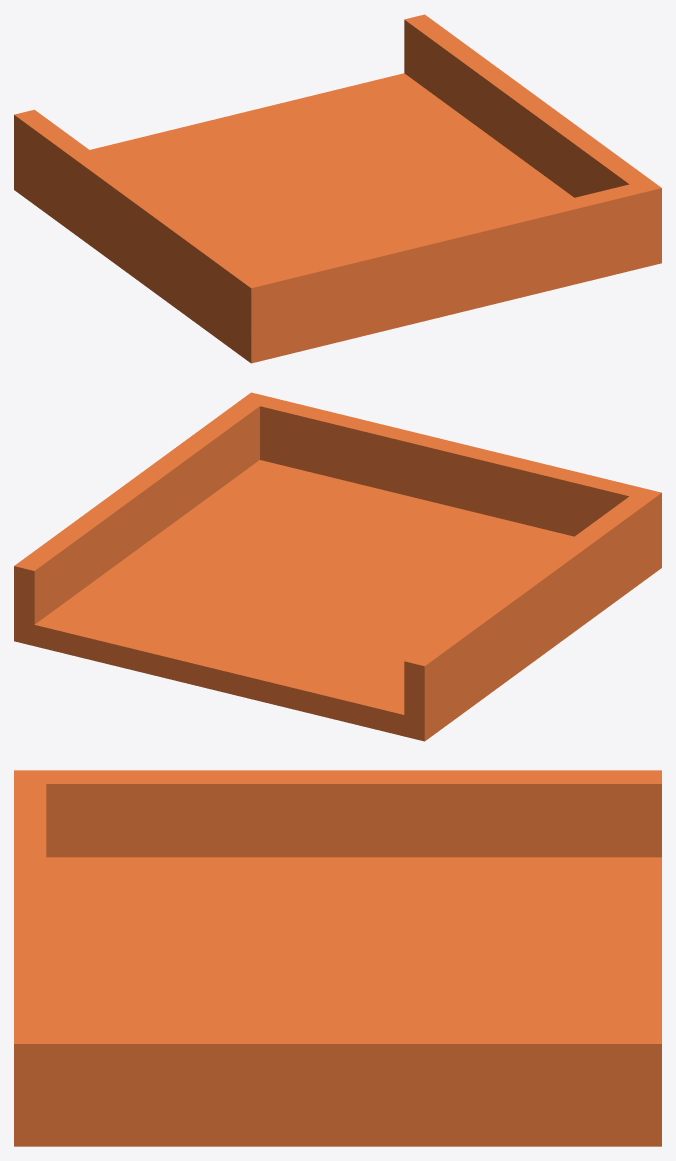
Rendered from OrangeRoof_3Edges.glb.
3 views of the same model, one above another, from view 1: azimuth 30°, elevation 25°; view 2: azimuth 150°, elevation 25°; view 3: azimuth 270°, elevation 25° (orthographic). The views are drawn at different scales.
Parts seen in each view (by area): view 1: roof_flat_3Edges_orange; view 2: roof_flat_3Edges_orange; view 3: roof_flat_3Edges_orange.
Part boxes in pixels (<box>): roof_flat_3Edges_orange: <box>14,14,661,363</box>; roof_flat_3Edges_orange: <box>14,392,661,741</box>; roof_flat_3Edges_orange: <box>14,770,661,1146</box>.
Size of what is drawn, in the model's own units: 4 by 0.7 by 4.
1 material, 1 textured.
